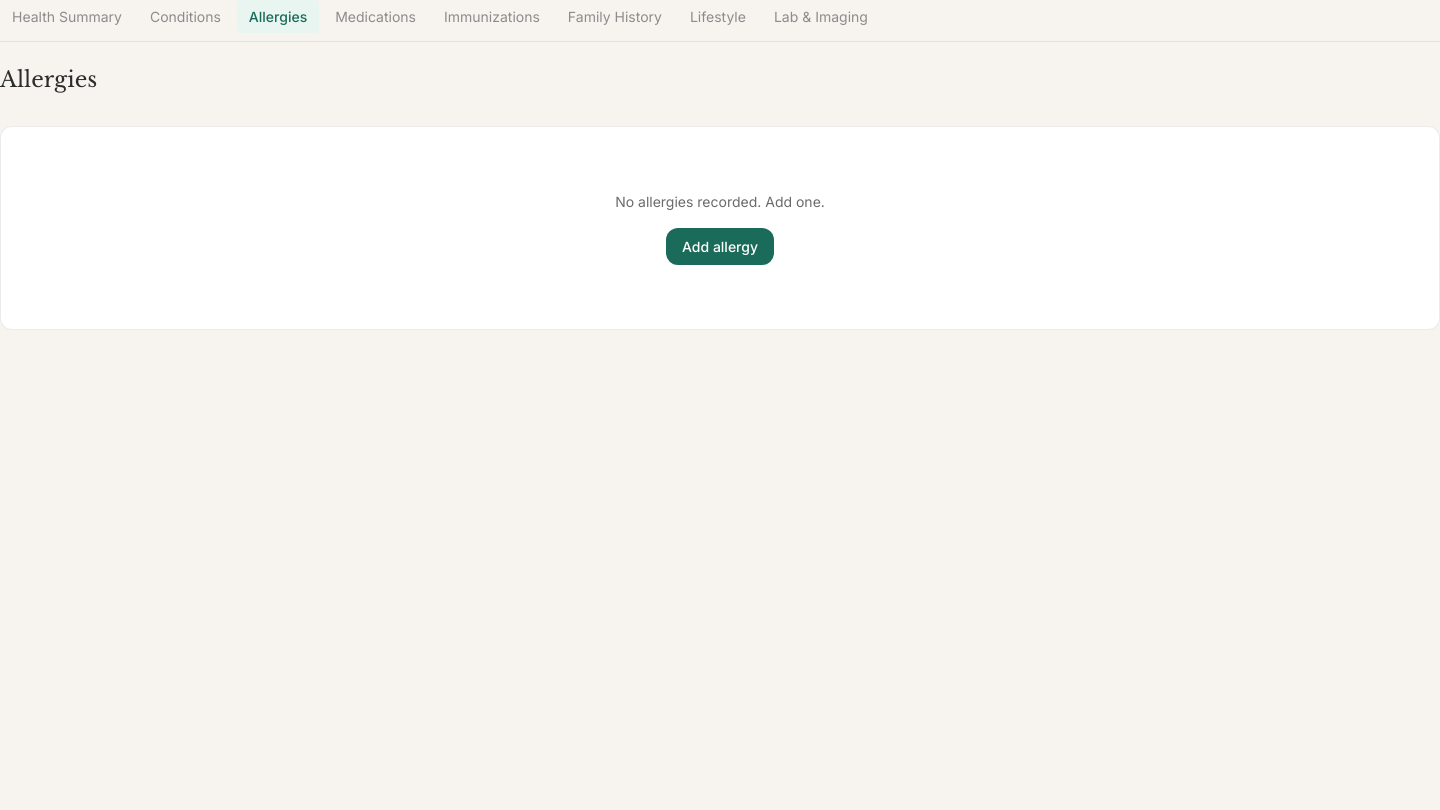
Test: AllergiesPage › opens add form
Expected: the text "No allergies recorded. Add one." is shown, [615,194,825,210]
Click the button "Add allergy": {"x": 720, "y": 247} [666,228,774,266]
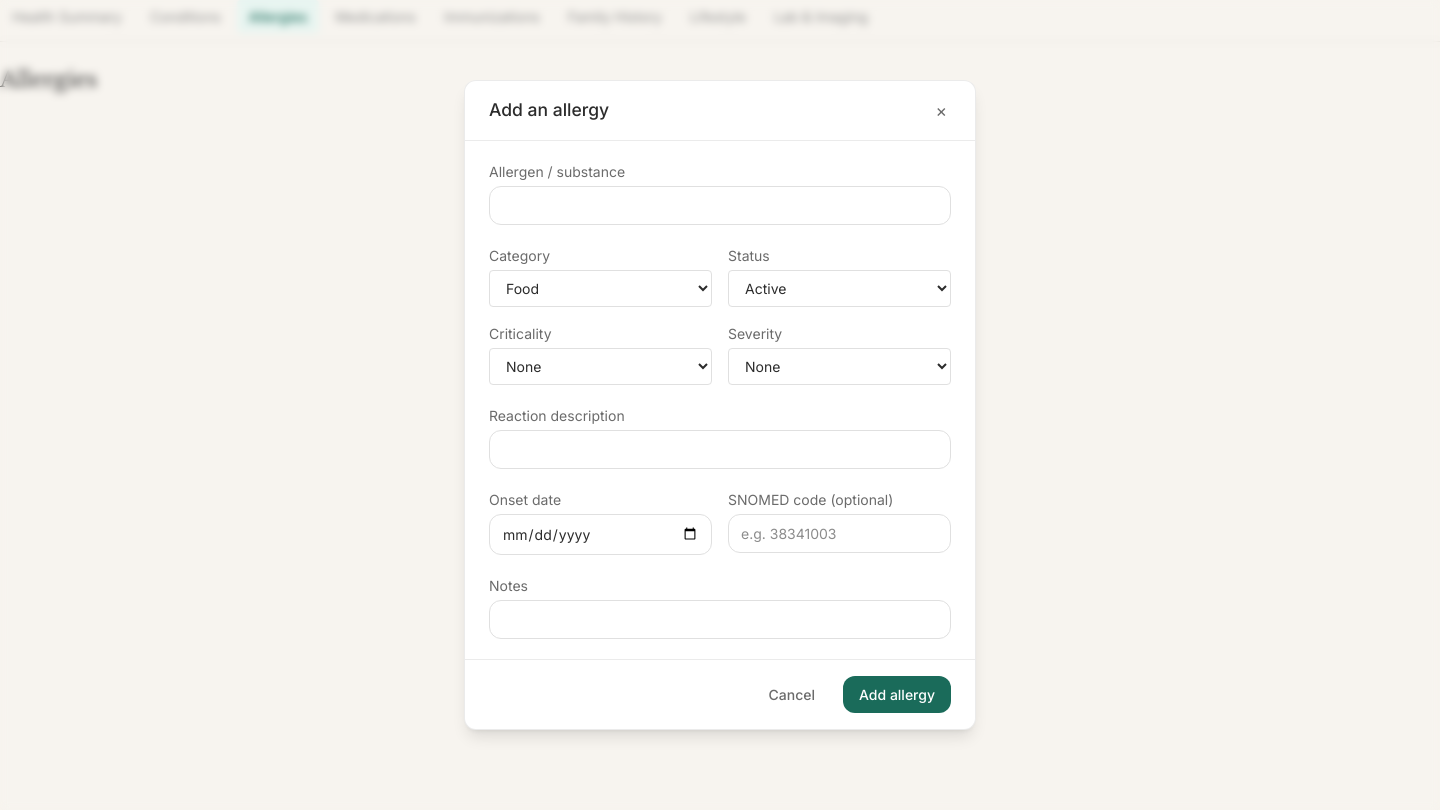
Expected: the heading "Add an allergy" is shown, [489,97,609,124]
Expected: the field labelled "Allergen / substance" is shown, [489,186,951,225]
